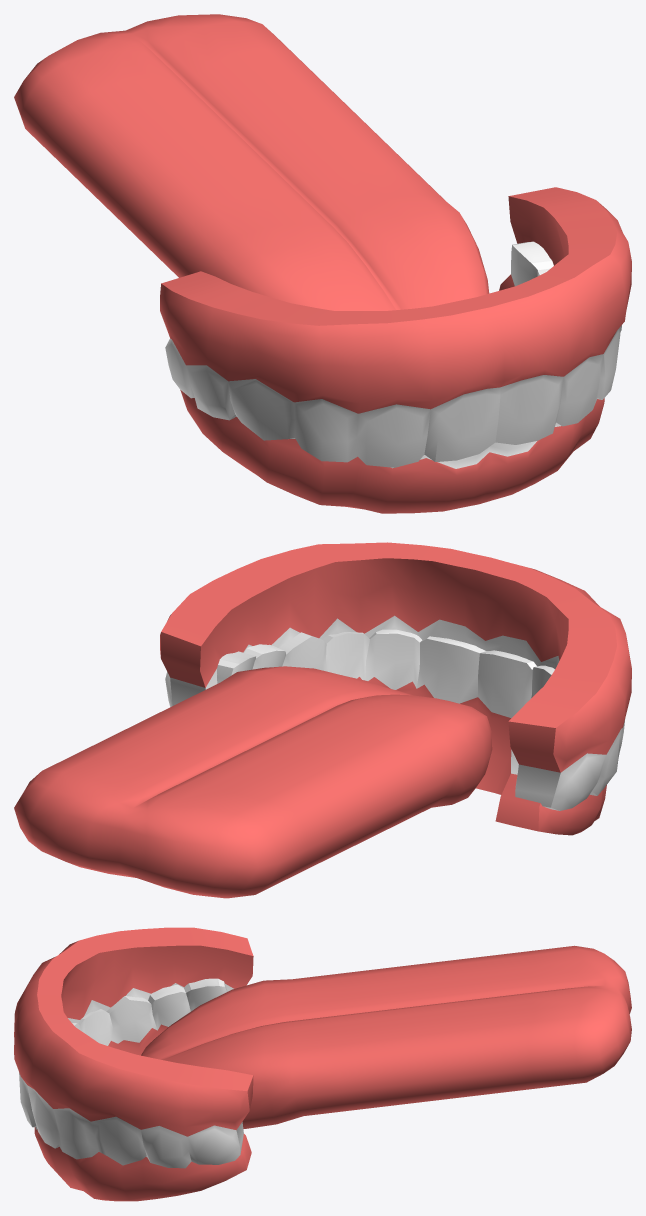
File: gigi.fbx
The picture shows the model from 3 angles, top to bottom: view 1: azimuth 30°, elevation 25°; view 2: azimuth 150°, elevation 25°; view 3: azimuth 270°, elevation 25°; orthographic projection. The views are drawn at different scales.
Parts seen in each view (by area): view 1: gigi; view 2: gigi; view 3: gigi.
Boxes of the visible parts, x1,y1,x2,y2 form: gigi: [14, 14, 631, 513]; gigi: [14, 542, 631, 898]; gigi: [14, 927, 631, 1201].
Bounding box in the file's own units: 5.94 × 3.02 × 9.45.
